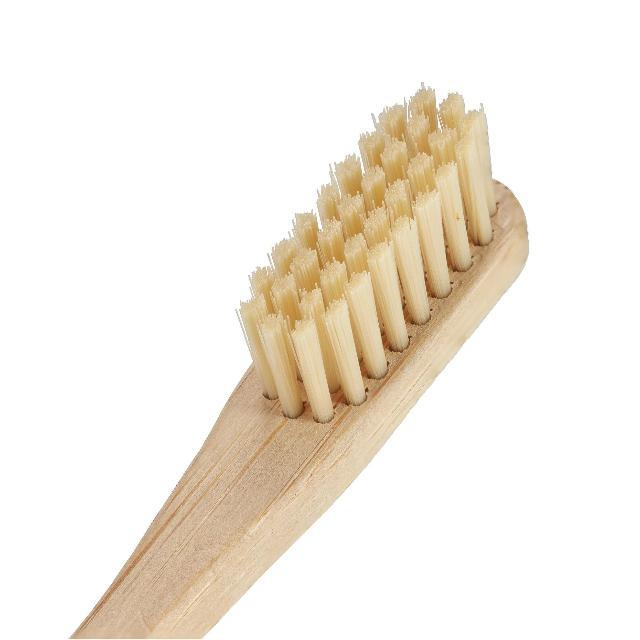toothbrush: (0, 8, 604, 640)
